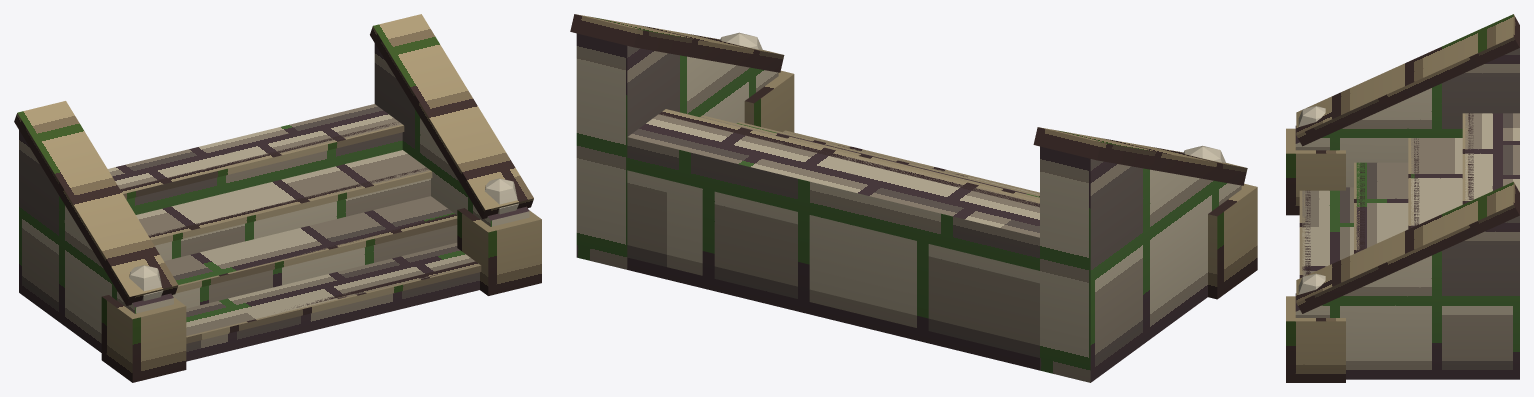
Rendered from scene_stair_court.glb.
3 views of the same model, side by side, from view 1: azimuth 30°, elevation 25°; view 2: azimuth 150°, elevation 25°; view 3: azimuth 270°, elevation 25° (orthographic). The views are drawn at different scales.
Parts seen in each view (by area): view 1: scene_stair_court; view 2: scene_stair_court; view 3: scene_stair_court.
Boxes of the visible parts, bbox=[...] form: scene_stair_court: bbox=[14, 14, 541, 382]; scene_stair_court: bbox=[570, 14, 1257, 382]; scene_stair_court: bbox=[1286, 14, 1519, 382].
Size of the model in its own units: 3.36 by 1.44 by 1.72.
Materials: 2 (1 with a texture image).
